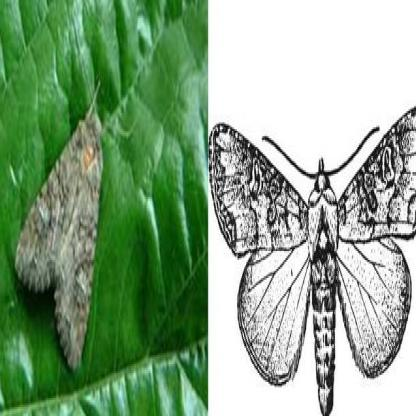armyworm: (208, 95, 415, 416), (8, 47, 117, 391)
